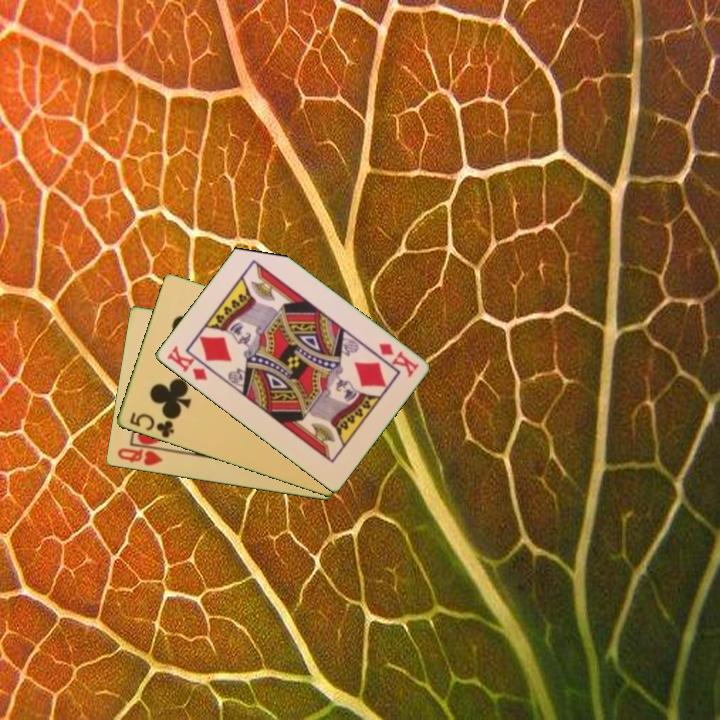5c: (125, 408, 176, 441)
Kd: (163, 342, 217, 384), (375, 339, 422, 380)
Qh: (114, 442, 170, 469)
